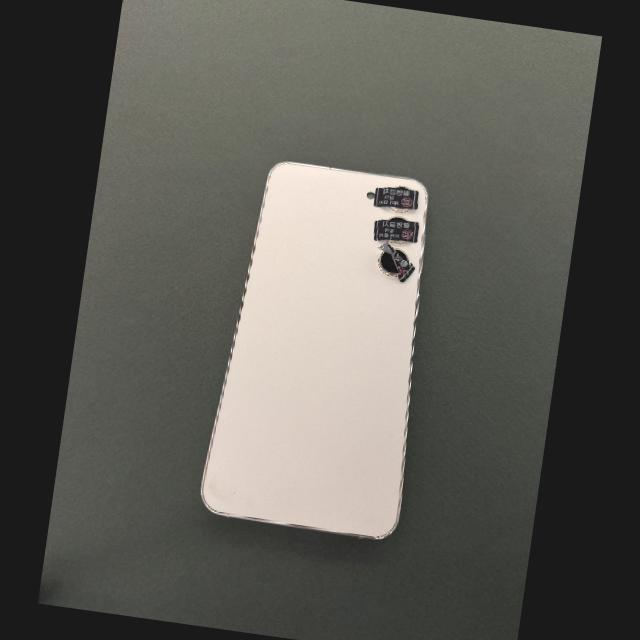lens: (391, 248, 408, 262), (389, 206, 410, 213), (387, 216, 407, 221)
phone: (202, 163, 428, 539)
sticker: (378, 242, 416, 283), (374, 187, 419, 210), (374, 220, 419, 243)
